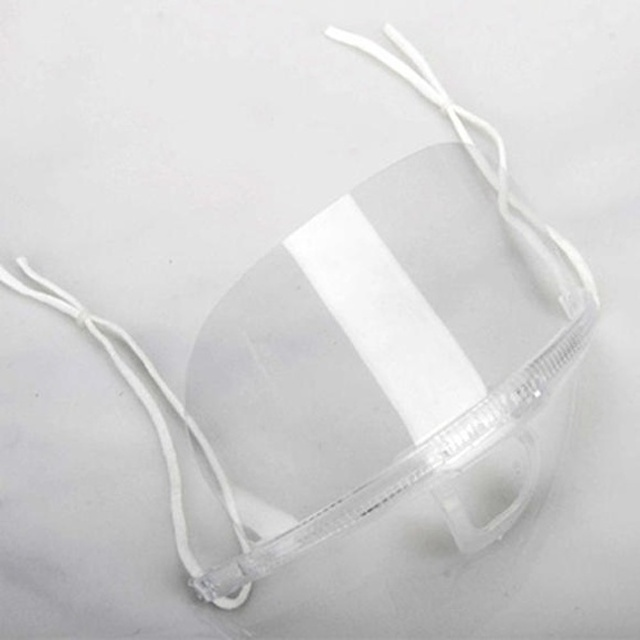mask: (160, 131, 603, 615)
